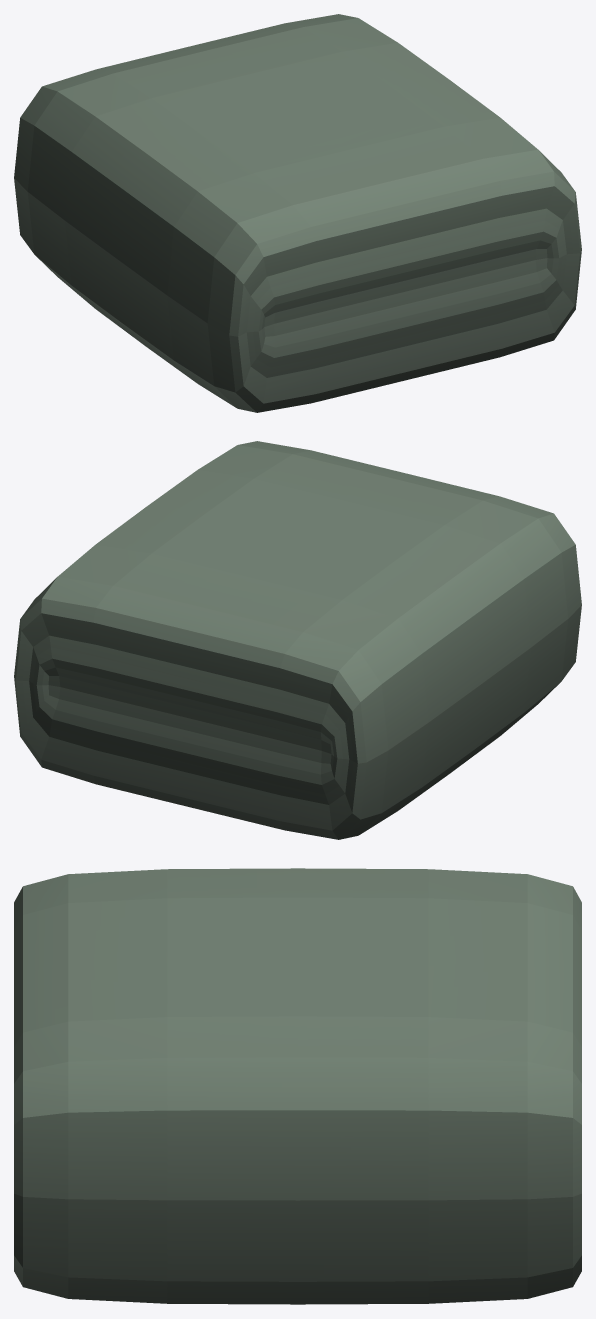
File: Clothes4_C5.fbx
3 renders of one model, top to bottom at view 1: azimuth 30°, elevation 25°; view 2: azimuth 150°, elevation 25°; view 3: azimuth 270°, elevation 25°, orthographic. The views are drawn at different scales.
Visible parts, largest first — view 1: Clothes4_C5; view 2: Clothes4_C5; view 3: Clothes4_C5.
Boxes of the visible parts, x1,y1,x2,y2 form: Clothes4_C5: (14, 14, 581, 412); Clothes4_C5: (14, 441, 581, 839); Clothes4_C5: (14, 868, 581, 1304).
Bounding box in the file's own units: 22.53 × 11.96 × 23.8.
